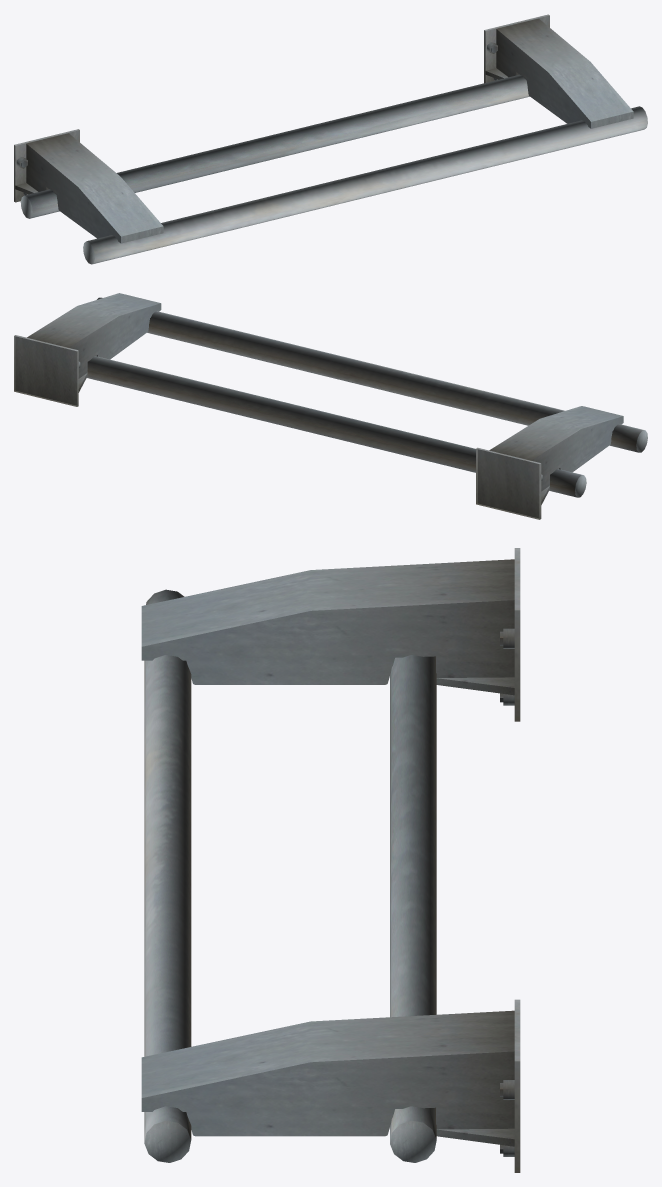
Rendered from RTB1601220720_0435L_01_normalization.obj.
3 renders of one model, top to bottom at view 1: azimuth 30°, elevation 25°; view 2: azimuth 150°, elevation 25°; view 3: azimuth 270°, elevation 25°, orthographic. The views are drawn at different scales.
Visible parts, largest first — view 1: Box001; view 2: Box001; view 3: Box001.
Boxes of the visible parts, box(x1,y1,x2,y2) form: Box001: box(14, 14, 647, 264); Box001: box(14, 293, 647, 519); Box001: box(141, 548, 520, 1172).
Size of the model in its own units: 0.9533 by 0.0934 by 0.2871.
Materials: 2 (2 with a texture image).
